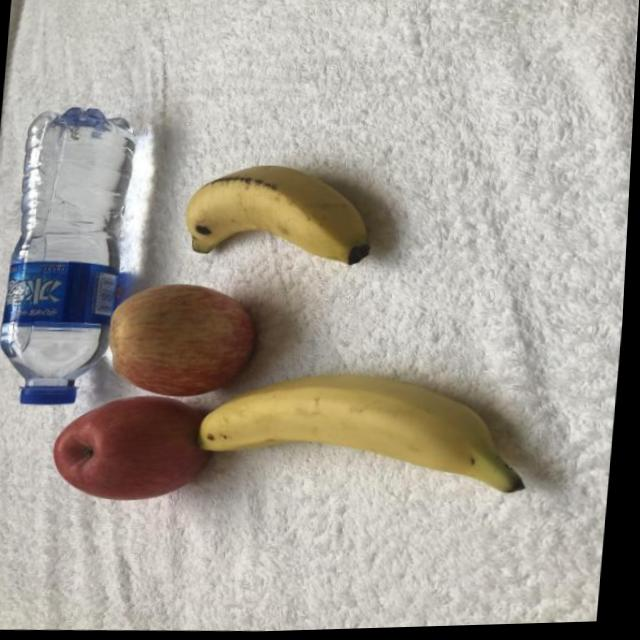Apple: (91, 269, 275, 401), (43, 386, 232, 510)
Banana: (191, 357, 546, 513), (172, 157, 388, 273)
